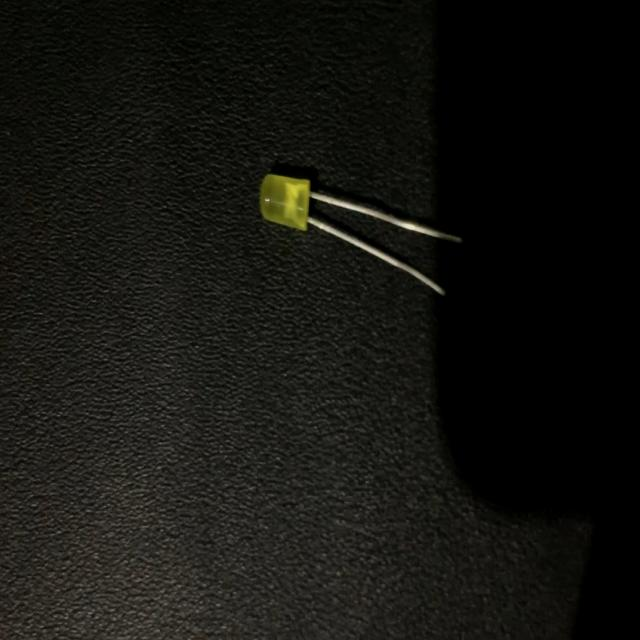LED: (258, 170, 462, 299)
